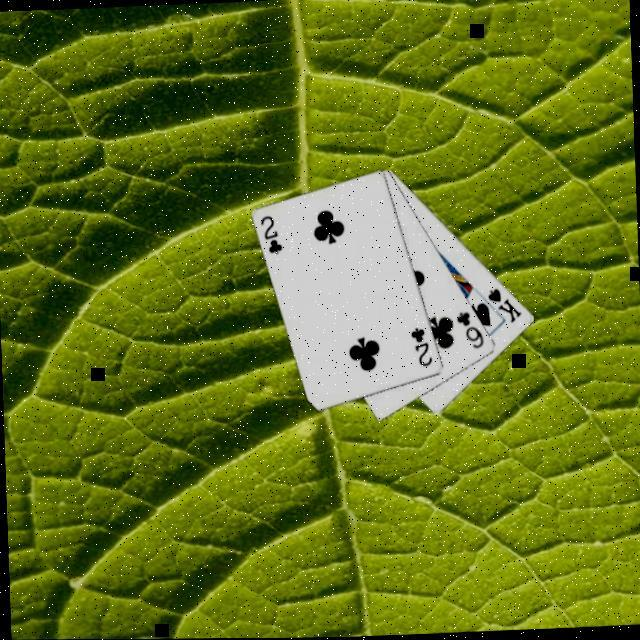2C: (408, 326, 438, 372), (259, 213, 287, 260)
6C: (454, 310, 490, 354)
KS: (486, 286, 527, 329)
